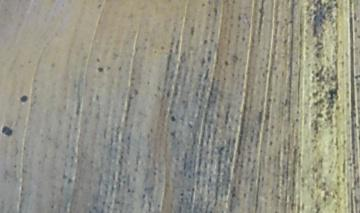tarspot: (310, 1, 326, 51), (74, 78, 83, 117), (257, 1, 265, 32), (1, 125, 14, 138), (327, 87, 338, 101), (202, 66, 211, 81), (165, 53, 172, 72), (18, 94, 30, 105), (289, 1, 296, 18), (223, 109, 230, 125), (321, 189, 329, 203), (216, 144, 225, 156), (313, 98, 325, 107), (174, 38, 180, 56), (60, 170, 69, 181), (313, 120, 320, 134), (280, 96, 288, 108), (315, 111, 324, 121), (211, 6, 219, 17), (189, 23, 195, 37), (264, 110, 271, 122), (285, 19, 294, 28), (329, 73, 338, 82), (325, 101, 334, 110), (168, 128, 176, 138), (127, 91, 135, 101), (206, 174, 214, 184), (230, 54, 238, 64), (96, 65, 104, 74), (169, 114, 177, 123), (185, 121, 194, 129), (48, 60, 57, 68), (263, 125, 271, 134), (310, 166, 319, 174), (314, 202, 320, 213), (353, 194, 359, 205), (352, 9, 357, 22), (104, 64, 112, 72), (332, 1, 340, 9), (66, 176, 73, 185), (132, 87, 139, 96), (214, 110, 221, 119), (206, 54, 212, 64), (199, 57, 205, 67), (193, 88, 199, 98), (223, 58, 230, 66), (158, 44, 166, 51), (116, 64, 123, 72), (94, 56, 101, 64), (325, 5, 333, 12), (273, 193, 281, 200), (281, 38, 289, 45), (334, 104, 341, 112), (311, 89, 319, 96), (230, 191, 237, 199), (274, 19, 281, 27), (168, 40, 175, 48), (324, 109, 331, 117), (240, 34, 246, 43), (236, 177, 242, 186), (222, 73, 228, 82), (141, 191, 146, 201), (178, 191, 185, 198), (353, 73, 360, 80), (209, 30, 216, 37), (125, 134, 132, 141), (202, 38, 208, 46), (266, 96, 272, 104), (314, 51, 320, 59), (353, 26, 359, 34), (304, 4, 310, 12), (248, 185, 254, 193), (156, 84, 162, 92), (326, 114, 332, 122), (133, 45, 139, 53), (195, 169, 201, 177), (236, 14, 241, 23), (314, 71, 319, 80), (242, 191, 247, 200), (165, 89, 170, 98), (206, 12, 212, 19), (152, 48, 158, 55), (199, 1, 205, 8), (209, 37, 215, 44), (268, 139, 274, 146), (320, 84, 326, 91), (190, 186, 196, 193), (246, 156, 252, 163), (249, 176, 255, 183), (167, 48, 174, 54), (145, 79, 151, 86), (94, 93, 99, 101), (226, 38, 231, 46), (156, 202, 161, 210), (96, 3, 102, 9), (151, 170, 157, 176), (129, 75, 135, 81), (232, 137, 236, 146), (294, 116, 299, 123), (355, 33, 360, 40), (126, 187, 131, 194), (49, 203, 54, 210), (141, 45, 148, 50), (143, 36, 148, 43), (207, 48, 212, 54), (236, 22, 241, 28), (231, 1, 236, 5), (326, 1, 337, 2)
